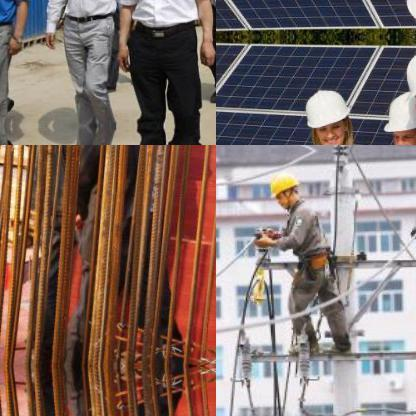Helmet: (299, 79, 352, 144), (381, 87, 415, 144), (267, 166, 301, 208), (400, 40, 415, 125)
